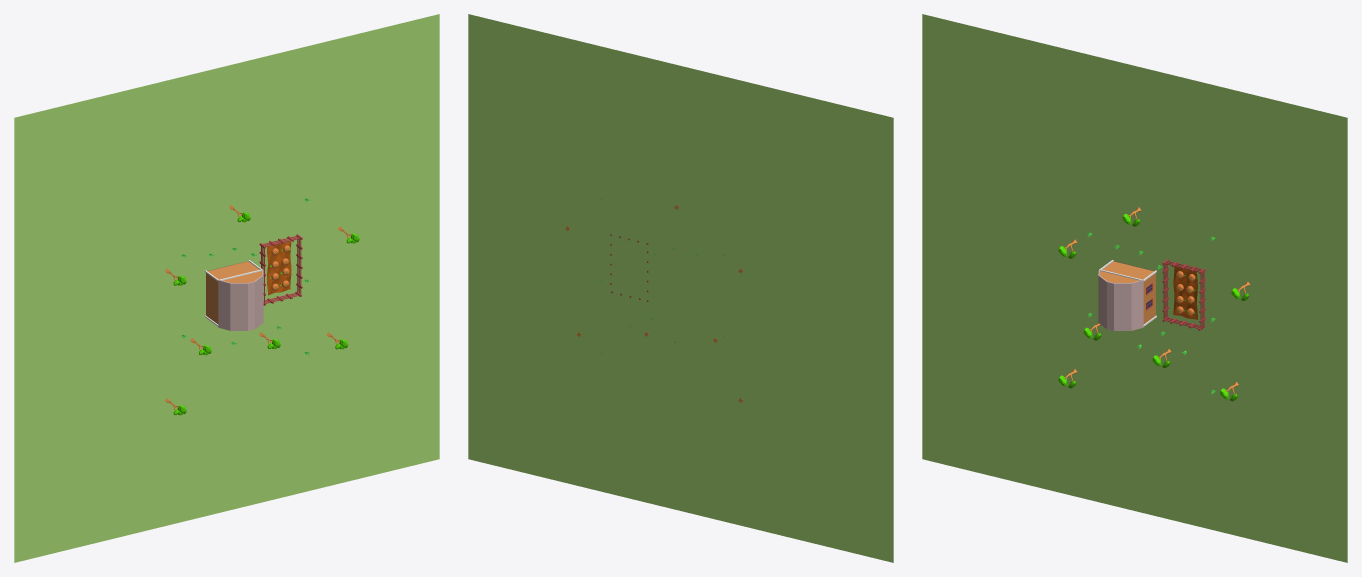
The model's file is house.gltf.
3 renders of one model, left to right at view 1: azimuth 30°, elevation 25°; view 2: azimuth 150°, elevation 25°; view 3: azimuth 330°, elevation 25°, orthographic.
Parts seen in each view (by area): view 1: Field, Cube.001, House, Plane.007; view 2: Field; view 3: Field, Cube.001, House, Plane.007.
Boxes of the visible parts, bbox=[...] form: Field: bbox=[14, 14, 439, 562]; Cube.001: bbox=[218, 269, 263, 330]; House: bbox=[206, 261, 261, 324]; Plane.007: bbox=[267, 241, 291, 295]; Field: bbox=[468, 14, 893, 562]; Field: bbox=[922, 14, 1347, 562]; Cube.001: bbox=[1098, 269, 1143, 330]; House: bbox=[1100, 261, 1155, 324]; Plane.007: bbox=[1173, 266, 1197, 319].
Bounding box in the file's own units: 20 × 20 × 2.02.
